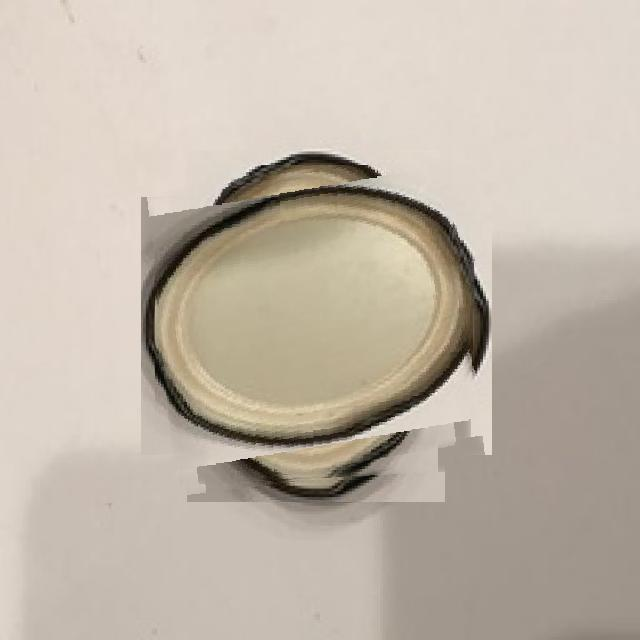recyclable: (155, 165, 477, 487)
